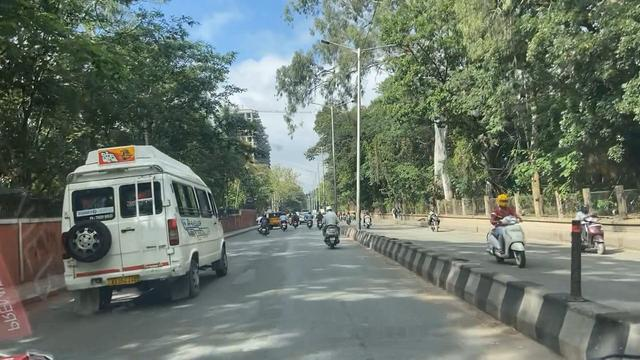HMV: (51, 167, 208, 292)
LMV: (322, 203, 341, 247), (255, 211, 274, 238)
